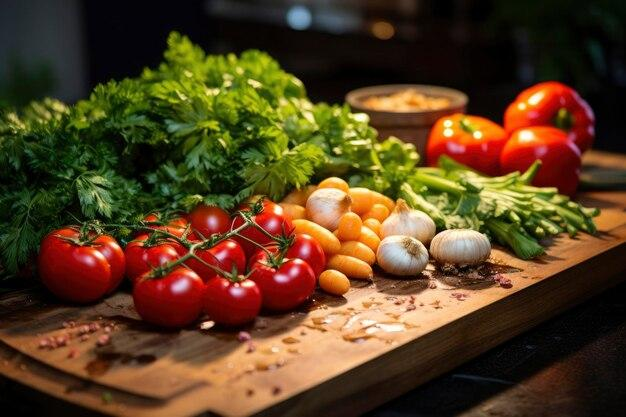apple: (36, 227, 126, 305)
garlic: (388, 184, 494, 277)
spinch: (12, 26, 421, 186)
tomato: (122, 202, 344, 325)
